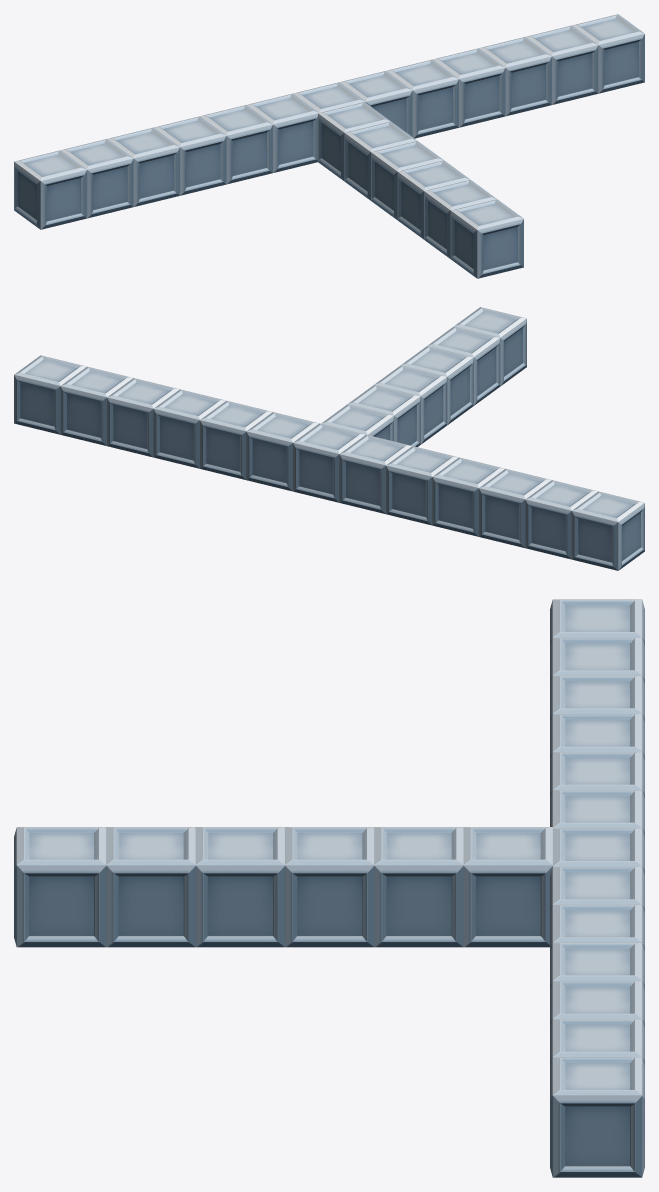
The model's file is PrototypeT7.fbx.
3 views of the same model, one above another, from view 1: azimuth 30°, elevation 25°; view 2: azimuth 150°, elevation 25°; view 3: azimuth 270°, elevation 25° (orthographic). The views are drawn at different scales.
Visible parts, largest first — view 1: polySurface1; view 2: polySurface1; view 3: polySurface1.
Boxes of the visible parts, x1,y1,x2,y2 form: polySurface1: (14, 14, 644, 278); polySurface1: (14, 307, 644, 570); polySurface1: (14, 599, 644, 1177).
Size of the model in its own units: 11.35 by 0.9244 by 6.08.
Materials: 2 (1 with a texture image).
